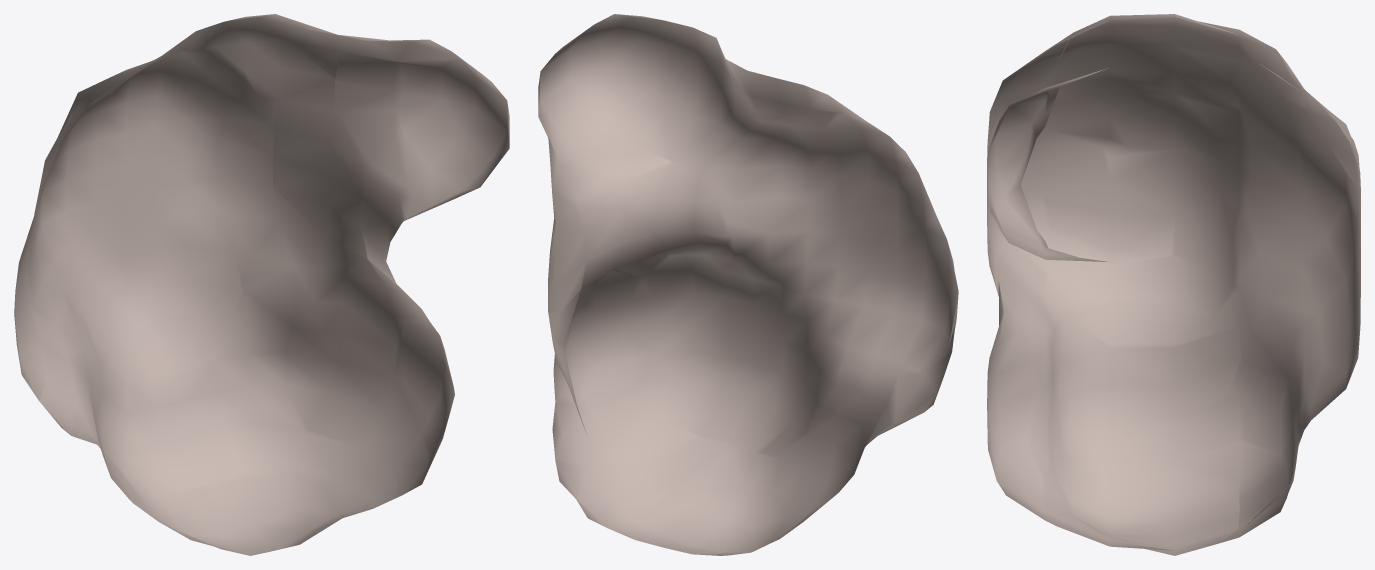
Rendered from tracking_chain_iPSC02_Chain1_T2_W13.glb.
3 views of the same model, side by side, from view 1: azimuth 30°, elevation 25°; view 2: azimuth 150°, elevation 25°; view 3: azimuth 270°, elevation 25° (orthographic). The views are drawn at different scales.
Parts seen in each view (by area): view 1: world; view 2: world; view 3: world.
Boxes of the visible parts, bbox=[...] form: world: bbox=[14, 14, 509, 555]; world: bbox=[538, 14, 958, 555]; world: bbox=[987, 14, 1360, 555].
Bounding box in the file's own units: 2.34 × 2.49 × 1.73.
